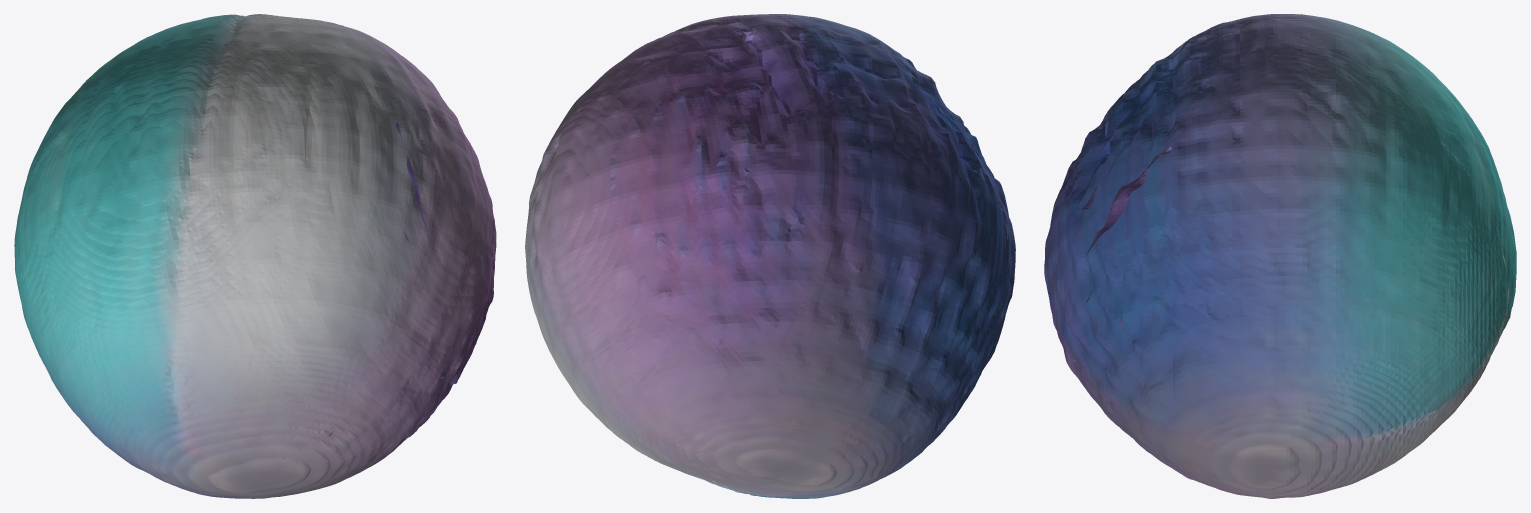
3 renders of one model, left to right at view 1: azimuth 30°, elevation 25°; view 2: azimuth 150°, elevation 25°; view 3: azimuth 270°, elevation 25°, orthographic. The views are drawn at different scales.
Visible parts, largest first — view 1: geometry_0; view 2: geometry_0; view 3: geometry_0.
Part boxes in pixels (x1,y1,x2,y2): geometry_0: (14,14,496,498); geometry_0: (525,14,1015,498); geometry_0: (1044,14,1516,498).
Bounding box in the file's own units: 1.6 × 1.58 × 1.58.
